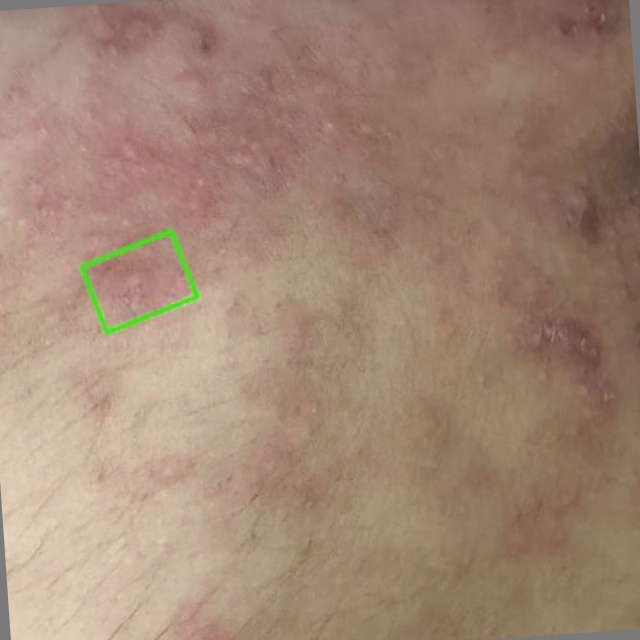Scabies: (80, 231, 197, 332)
